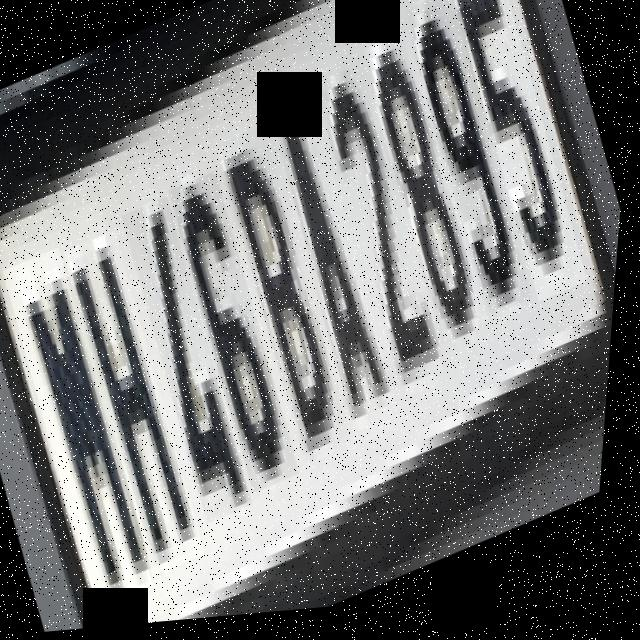4: (106, 192, 280, 535)
5: (428, 0, 612, 320)
6: (153, 167, 325, 506)
8: (348, 31, 512, 355)
9: (388, 0, 557, 332)
A: (249, 93, 430, 459)
B: (200, 124, 377, 475)
H: (46, 224, 233, 587)
M: (0, 240, 182, 619)
